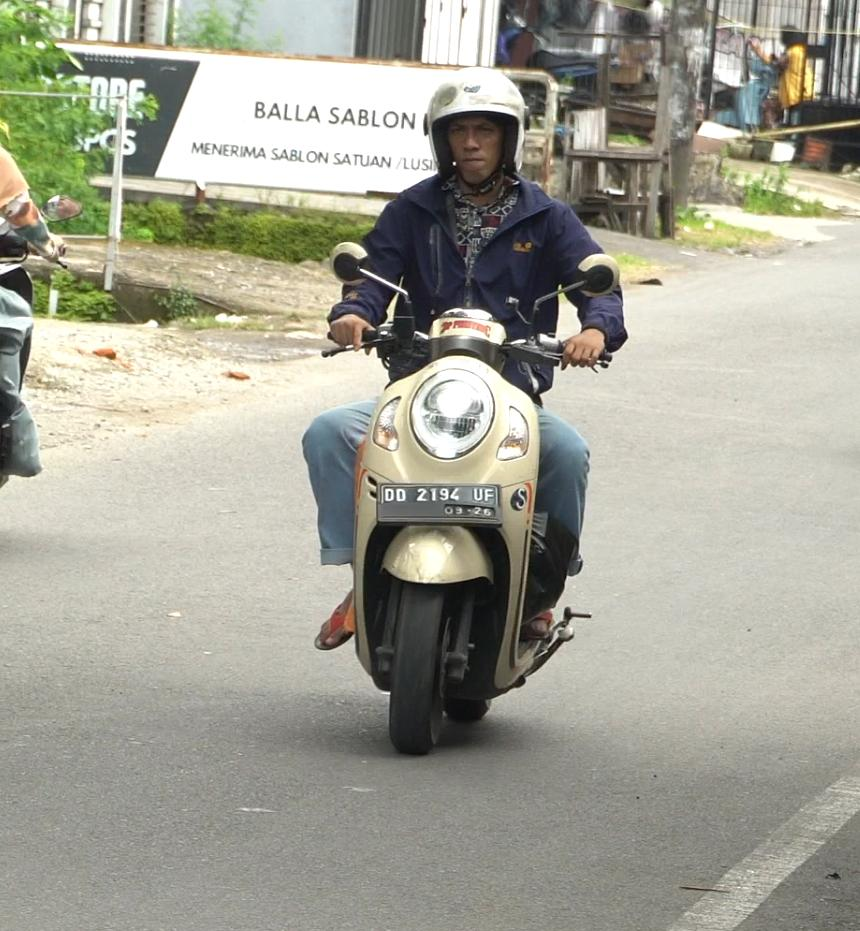number-plate: (375, 477, 507, 526)
